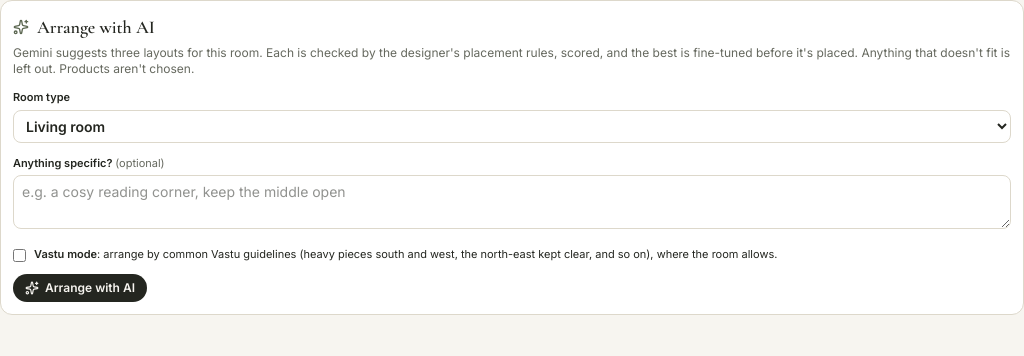
AiLayoutPanel › shows the server message when the request fails, and leaves the design alone
Click the button "Arrange with AI". click: (80, 288)
box: [13,274,147,302]
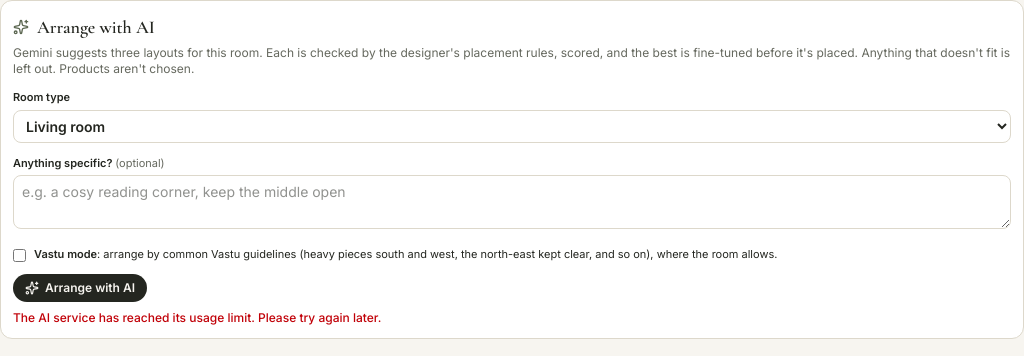
Expected: the message shows "usage limit", [13,310,381,325]
